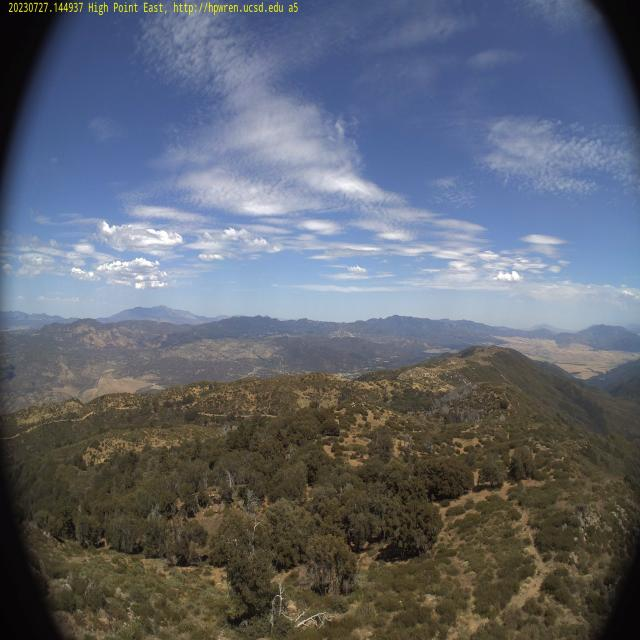smoke: (20, 314, 36, 338)
